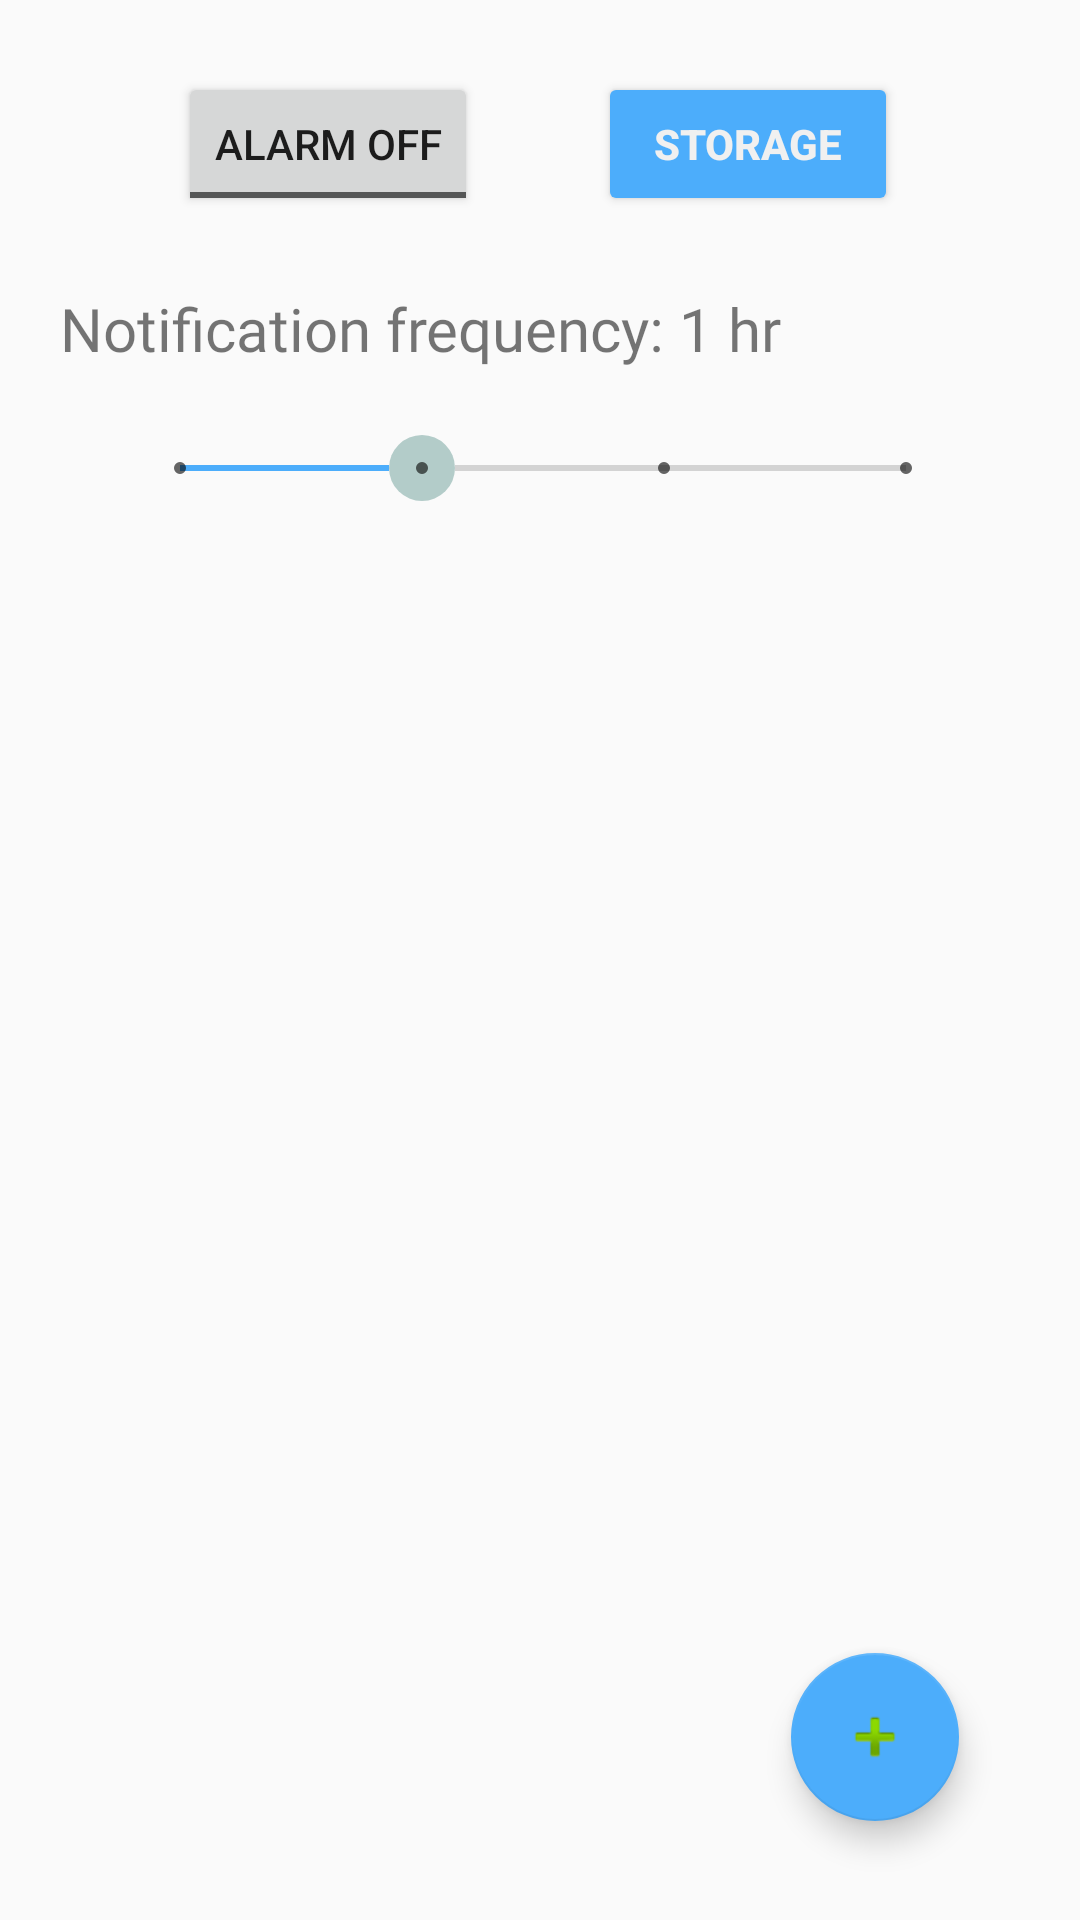

Icons on this 1080px x 1920px Android screen, each with its box as {"left": x1, "top": y1, "right": x2, "bottom": y2}:
add: {"left": 791, "top": 1653, "right": 959, "bottom": 1821}
